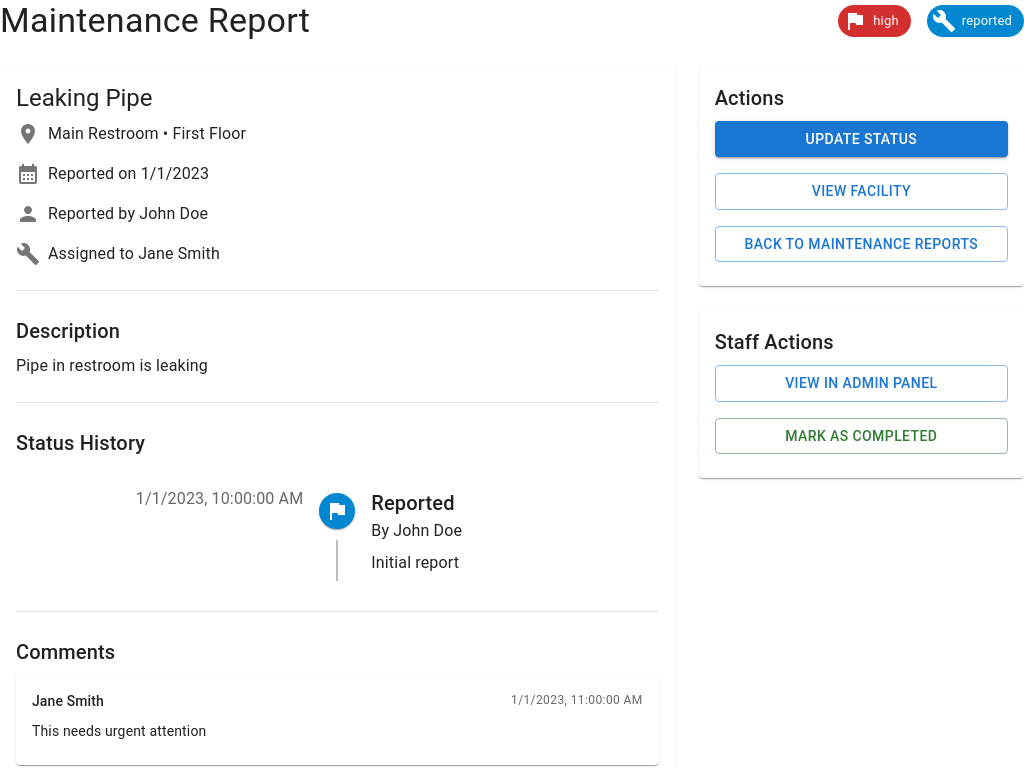
Test: MaintenanceDetailsPage › opens status update dialog when Update Status button is clicked
The width and height of the screenshot is (1024, 768).
Click the button "Update Status": (861, 139) [715, 121, 1008, 158]
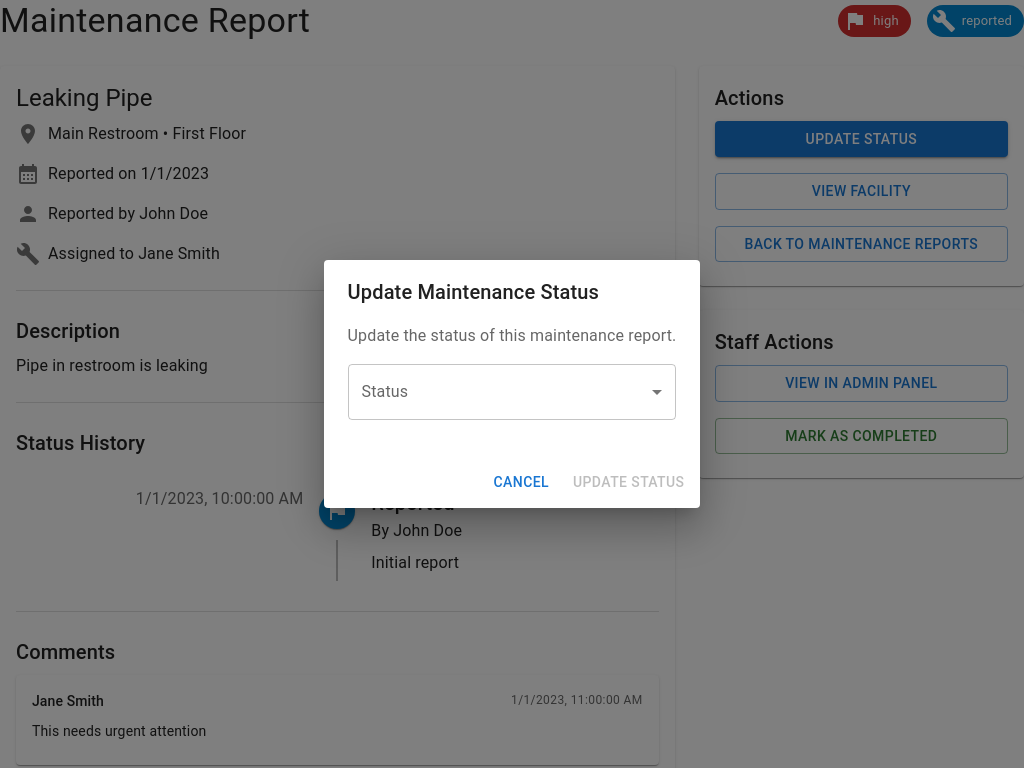
Check: the heading "Update Maintenance Status" is shown, box [348, 280, 599, 304]
